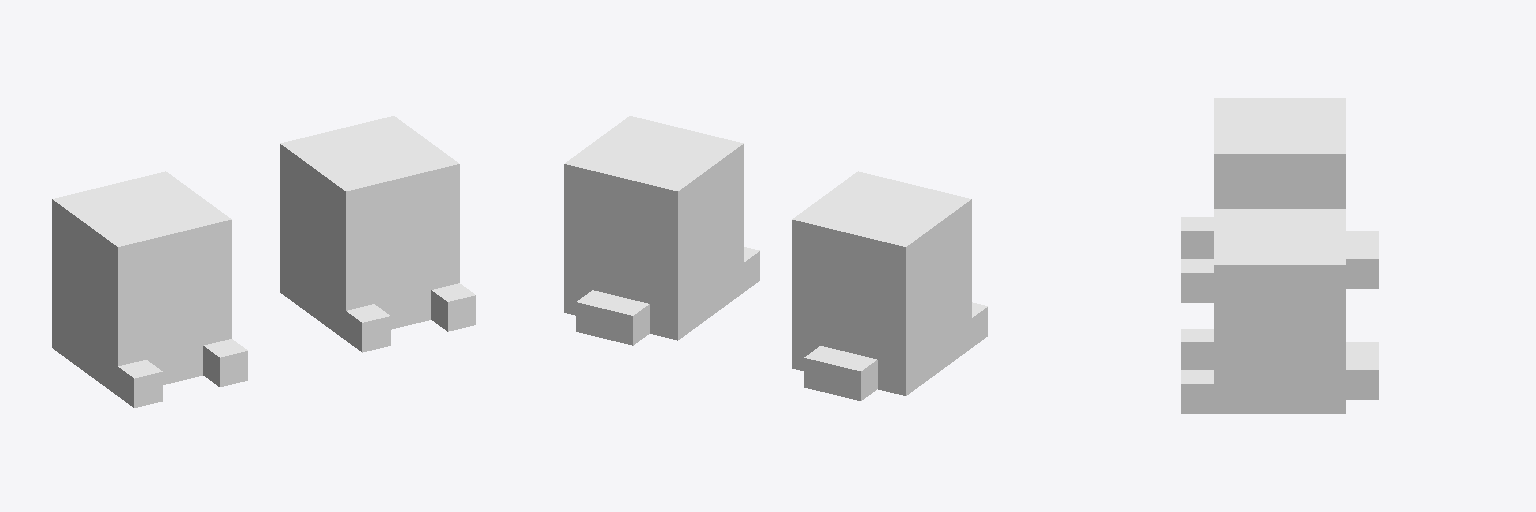
Rendered from Dragon_large-8.obj.
The picture shows the model from 3 angles: view 1: azimuth 30°, elevation 25°; view 2: azimuth 150°, elevation 25°; view 3: azimuth 270°, elevation 25°; orthographic projection.
Parts seen in each view (by area): view 1: object 1; view 2: object 1; view 3: object 1.
Part boxes in pixels (x1,y1,x2,y2): object 1: (52, 116, 475, 407); object 1: (564, 116, 987, 400); object 1: (1181, 98, 1378, 413).
Size of the model in its own units: 1.2 by 0.5 by 0.6.